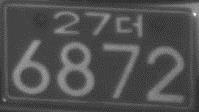2: (146, 44, 185, 104), (53, 10, 81, 35)
6: (11, 39, 49, 95)
7: (101, 42, 142, 98), (84, 9, 110, 37)
8: (56, 41, 95, 96)
더: (115, 13, 143, 39)
